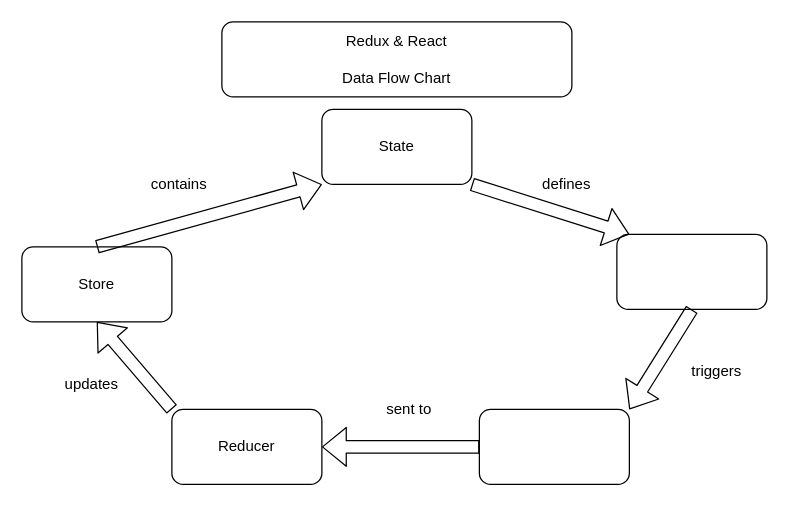
This 789x506 diagram has some shape labels left out. Here are the shapes that lost their labels. From the top down, the box of each, then its label:
(616, 233, 767, 309): UI
(478, 408, 629, 484): Actions
